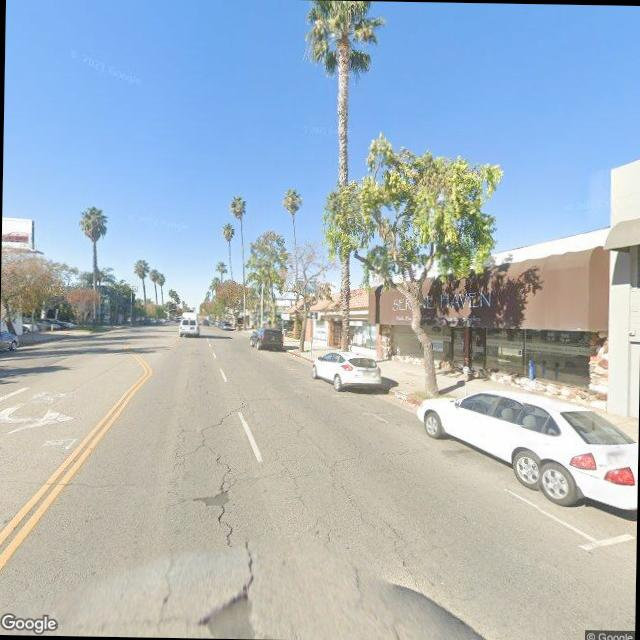crack: (131, 400, 426, 640)
